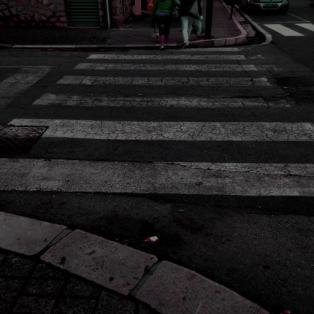Paso de Cebra: (0, 114, 314, 203), (51, 61, 275, 92)
